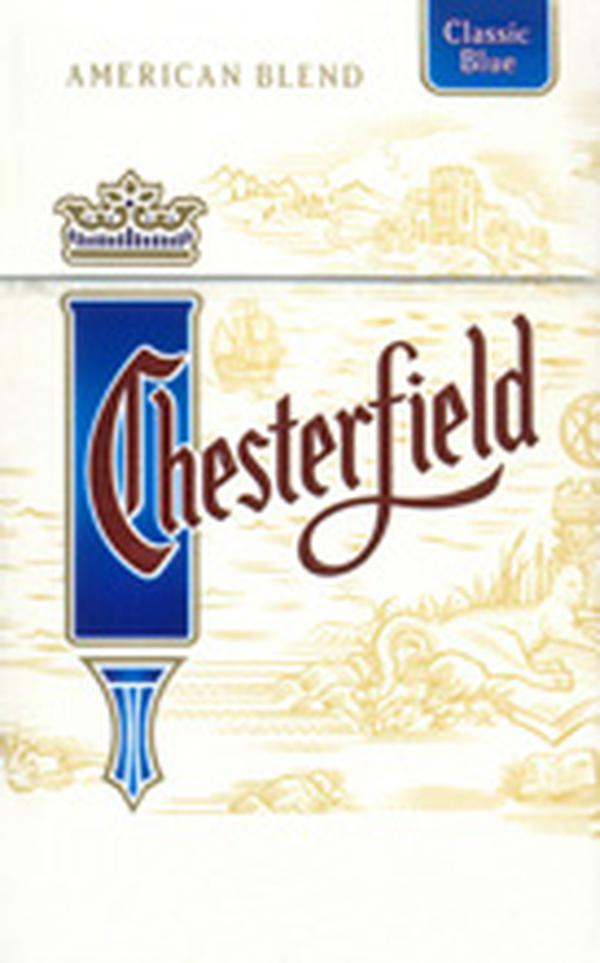chesterfield_blue: (3, 1, 598, 961)
